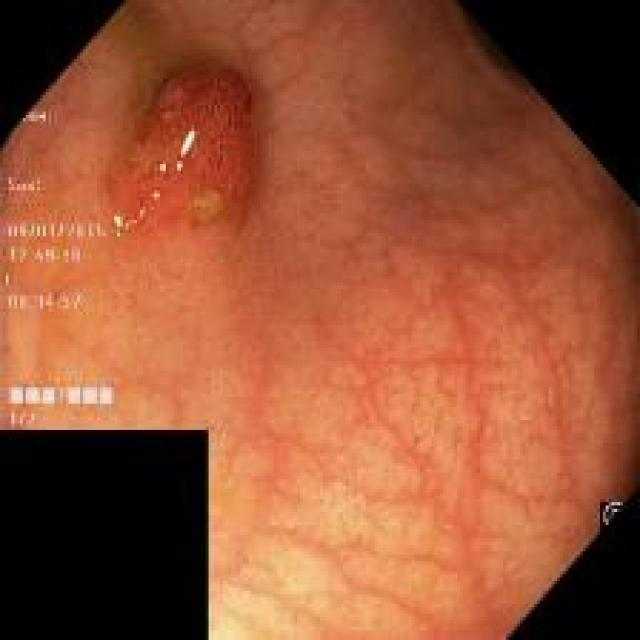Polyps: (112, 69, 256, 239)
